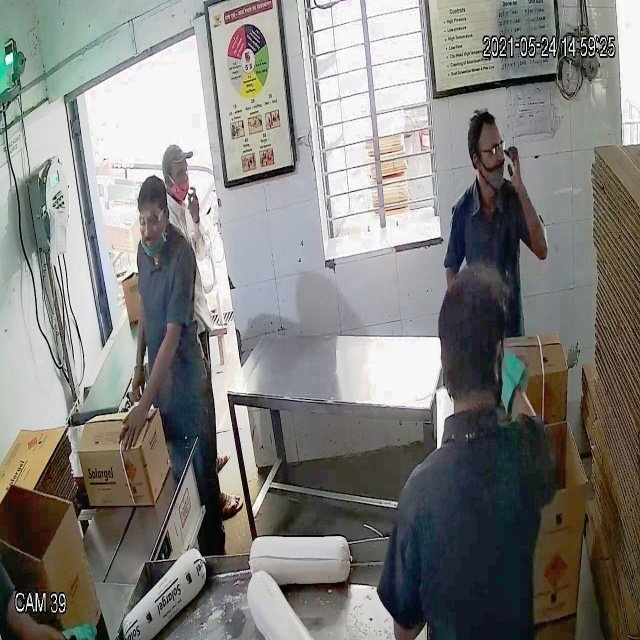Gafas: (467, 135, 508, 165), (136, 206, 168, 235)
